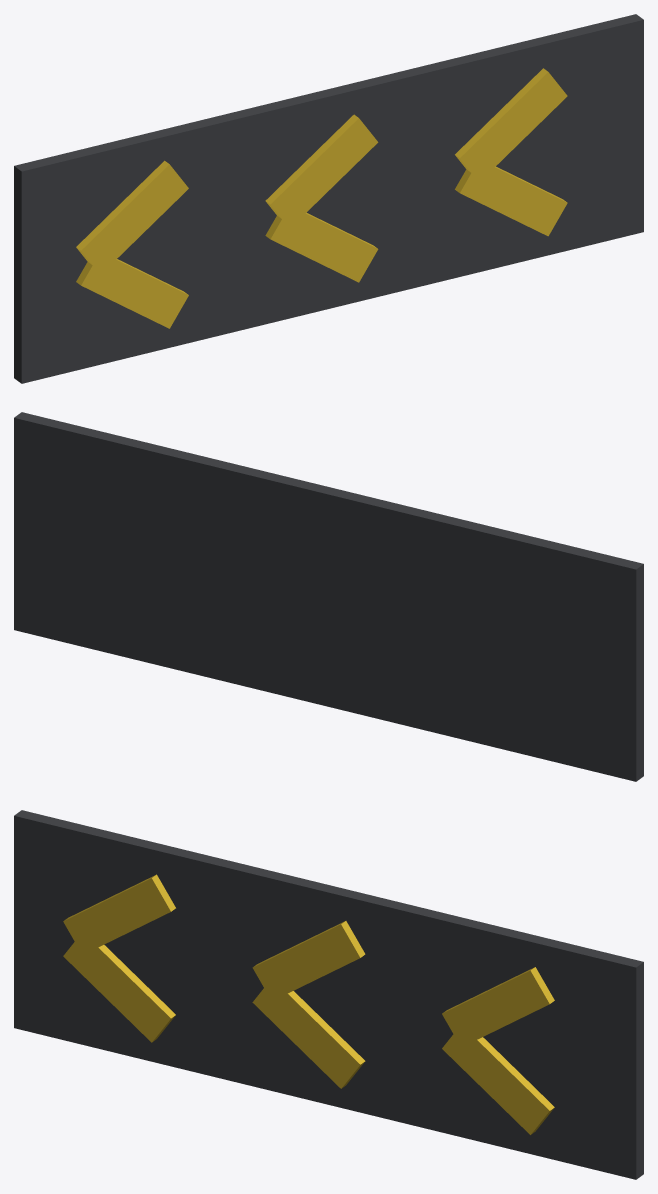
File: sign_arrows.glb
The picture shows the model from 3 angles, top to bottom: view 1: azimuth 30°, elevation 25°; view 2: azimuth 150°, elevation 25°; view 3: azimuth 330°, elevation 25°; orthographic projection.
Visible parts, largest first — view 1: sign_arrows; view 2: sign_arrows; view 3: sign_arrows.
Part boxes in pixels (box(x1,y1,x2,y2)): sign_arrows: box(14, 14, 643, 383); sign_arrows: box(14, 412, 643, 781); sign_arrows: box(14, 810, 643, 1179).
Bounding box in the file's own units: 0.92 × 0.3 × 0.033.
